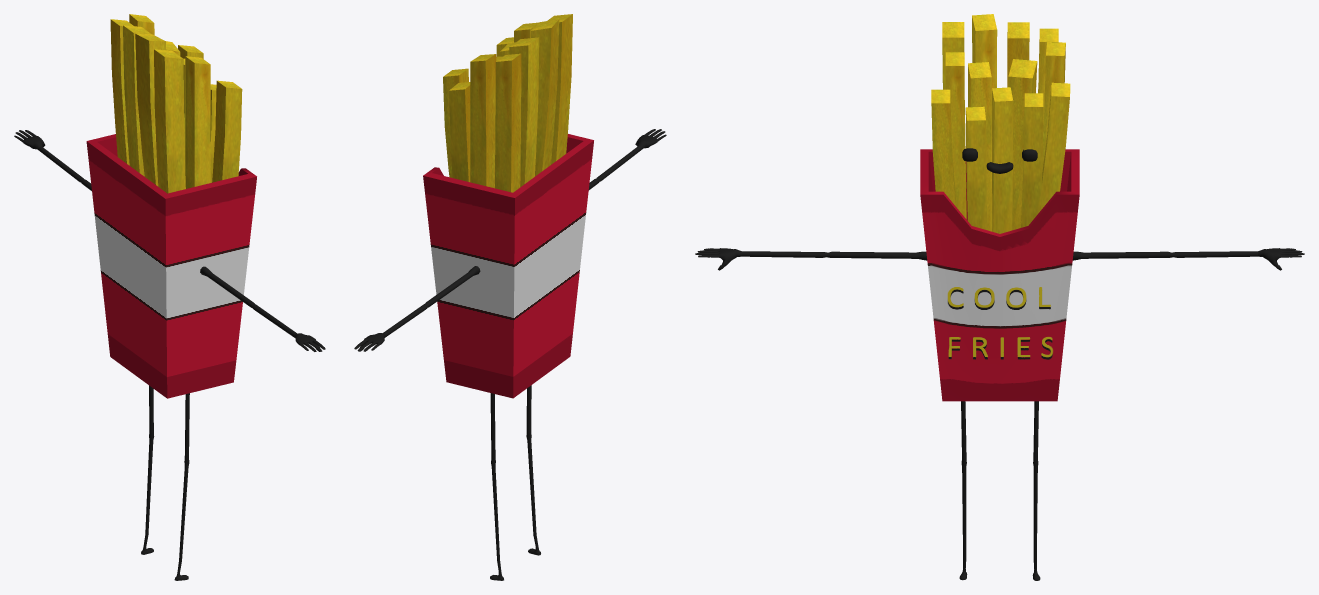
Rendered from scene_sUJmozweWH.glb.
3 views of the same model, side by side, from view 1: azimuth 30°, elevation 25°; view 2: azimuth 150°, elevation 25°; view 3: azimuth 270°, elevation 25° (orthographic).
Parts seen in each view (by area): view 1: _100Avatars_118_COOLFRIES; view 2: _100Avatars_118_COOLFRIES; view 3: _100Avatars_118_COOLFRIES.
Part boxes in pixels (x1,y1,x2,y2): _100Avatars_118_COOLFRIES: (14, 14, 325, 580); _100Avatars_118_COOLFRIES: (354, 14, 666, 580); _100Avatars_118_COOLFRIES: (695, 14, 1304, 580).
Size of the model in its own units: 1.08 by 5.95 by 6.
1 material, 1 textured.
